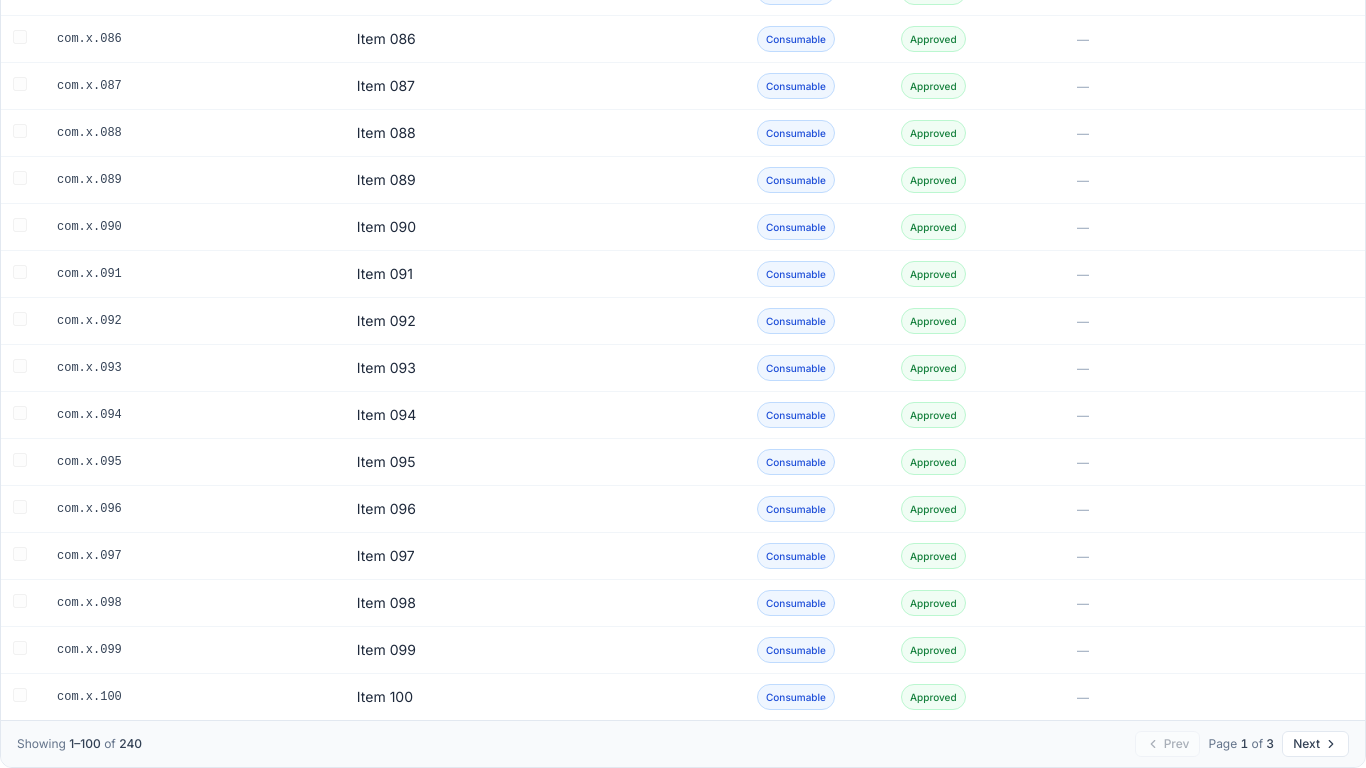
Test: the list page footer still behaves as it did before the extraction › Next advances the page and the range moves with it
(page scrolled)
Step 1. Click the button with aria-label "Next page" → (1316, 744), box [1282,730,1349,756]
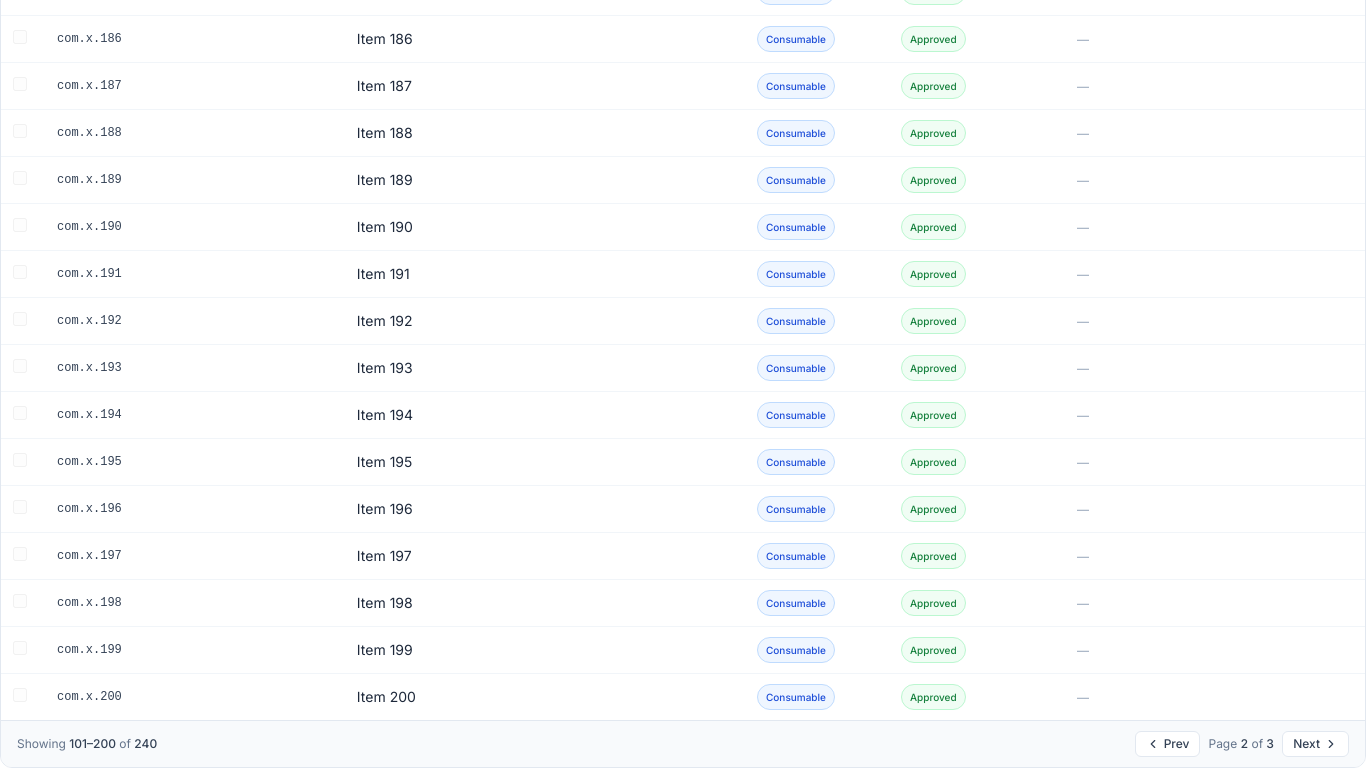
Expected: the element with test id "page-nav" shows "101–200", [1,720,1365,766]
